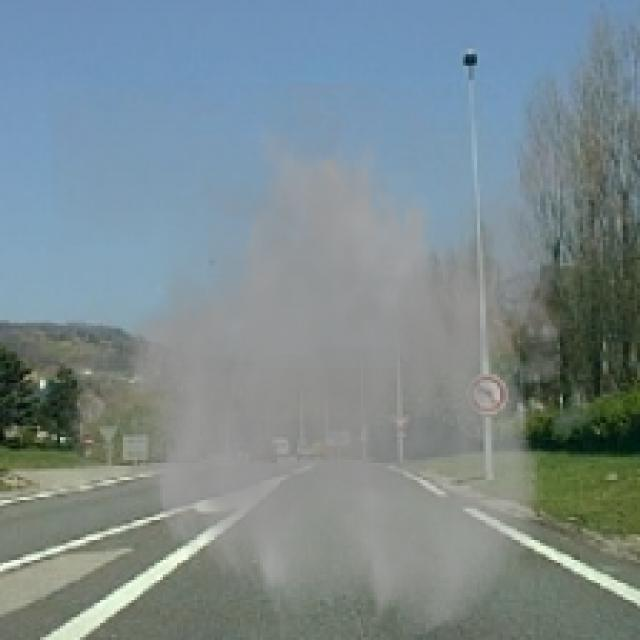smoke: (51, 83, 606, 637)
